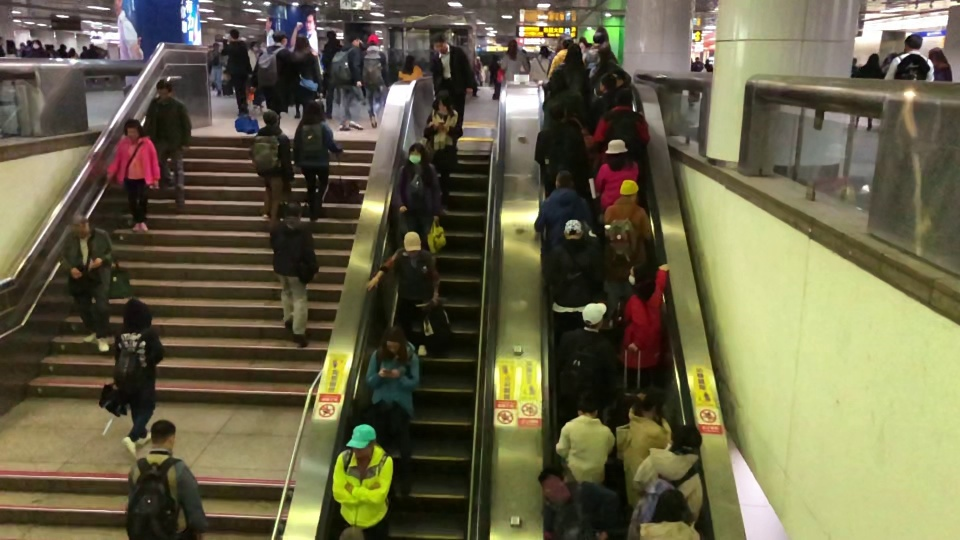person_head: (650, 488, 691, 524), (346, 422, 378, 460), (539, 466, 568, 501), (121, 296, 151, 327), (150, 418, 177, 451), (670, 424, 701, 452), (636, 386, 663, 417), (580, 301, 608, 330), (625, 262, 653, 287), (382, 325, 405, 355), (606, 138, 628, 164), (576, 392, 598, 417), (402, 230, 422, 257), (563, 217, 583, 240), (122, 118, 143, 139), (618, 178, 639, 199), (70, 213, 89, 236), (408, 141, 425, 165), (434, 89, 450, 114), (430, 32, 449, 53), (547, 100, 566, 121), (553, 169, 573, 188), (902, 33, 922, 52), (550, 68, 567, 90), (614, 87, 634, 105), (284, 201, 302, 220), (598, 72, 616, 91), (155, 77, 172, 97), (271, 28, 289, 46), (928, 46, 946, 64), (294, 33, 311, 52), (564, 47, 582, 64), (304, 101, 321, 117), (261, 110, 278, 125), (865, 52, 879, 67), (597, 47, 610, 62), (348, 32, 361, 46), (366, 32, 379, 46), (592, 31, 606, 44), (229, 28, 241, 42), (324, 28, 336, 41), (560, 36, 573, 48), (539, 45, 549, 60), (404, 53, 415, 66), (507, 40, 517, 54), (32, 39, 41, 49), (59, 43, 67, 51), (70, 46, 75, 55), (89, 43, 95, 50), (213, 43, 218, 50), (852, 57, 856, 65), (705, 58, 710, 64), (82, 46, 86, 51)
person_vbox: (126, 419, 209, 540), (365, 325, 421, 498), (367, 230, 441, 357), (629, 422, 706, 540), (114, 297, 166, 462), (58, 213, 117, 353), (269, 200, 320, 348), (602, 178, 652, 326), (614, 386, 672, 509), (541, 218, 603, 331), (331, 422, 394, 531), (105, 117, 162, 234), (142, 77, 193, 207), (558, 302, 619, 410), (615, 261, 670, 375), (292, 101, 343, 222), (553, 391, 615, 484), (247, 108, 292, 227), (393, 141, 442, 249), (423, 89, 464, 213), (589, 86, 650, 167), (532, 99, 589, 183), (538, 466, 602, 540), (429, 32, 477, 127), (533, 169, 591, 246), (250, 29, 297, 115), (587, 71, 646, 129), (591, 138, 639, 209), (331, 31, 363, 132), (360, 32, 390, 128), (221, 28, 252, 115), (882, 34, 935, 83), (541, 67, 584, 122), (853, 52, 882, 131), (293, 33, 324, 105), (321, 29, 343, 117), (546, 36, 585, 80), (589, 47, 629, 86), (501, 40, 529, 82), (558, 47, 587, 82), (928, 45, 952, 82), (209, 41, 223, 99), (586, 30, 607, 65), (530, 46, 550, 81), (31, 38, 46, 58), (89, 43, 97, 59), (851, 58, 857, 77), (703, 58, 711, 71), (80, 46, 87, 59)
